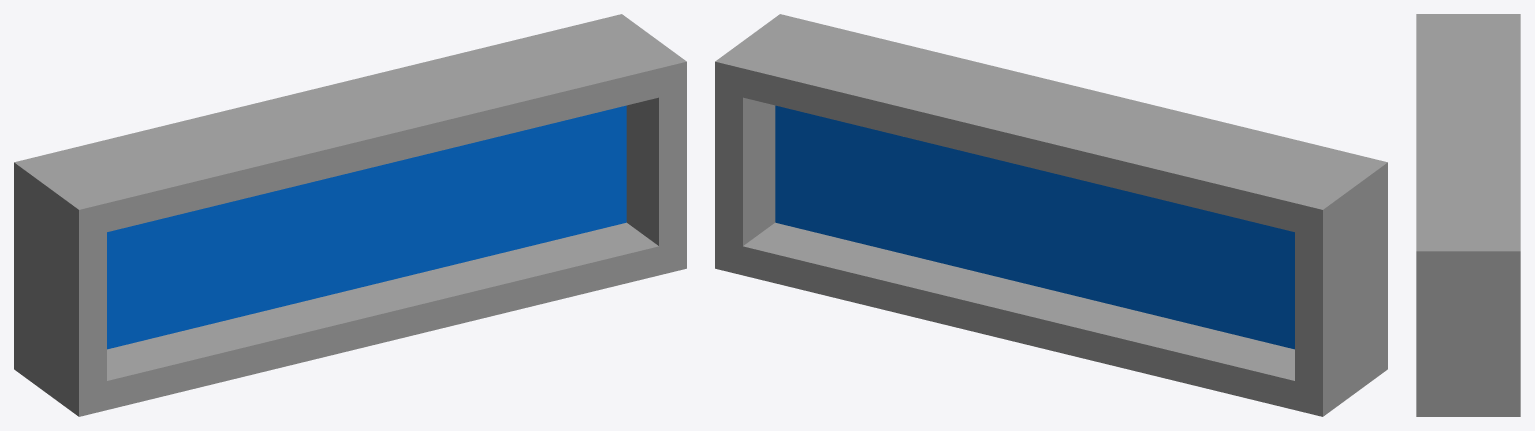
The model's file is COSAARRIBAPUERTA.fbx.
3 renders of one model, left to right at view 1: azimuth 30°, elevation 25°; view 2: azimuth 150°, elevation 25°; view 3: azimuth 270°, elevation 25°, orthographic. The views are drawn at different scales.
Visible parts, largest first — view 1: pCube3; view 2: pCube3; view 3: pCube3.
Boxes of the visible parts, <box> form: pCube3: <box>14,14,686,416</box>; pCube3: <box>715,14,1387,416</box>; pCube3: <box>1416,14,1520,416</box>.
Bounding box in the file's own units: 135 × 44.06 × 25.1.
